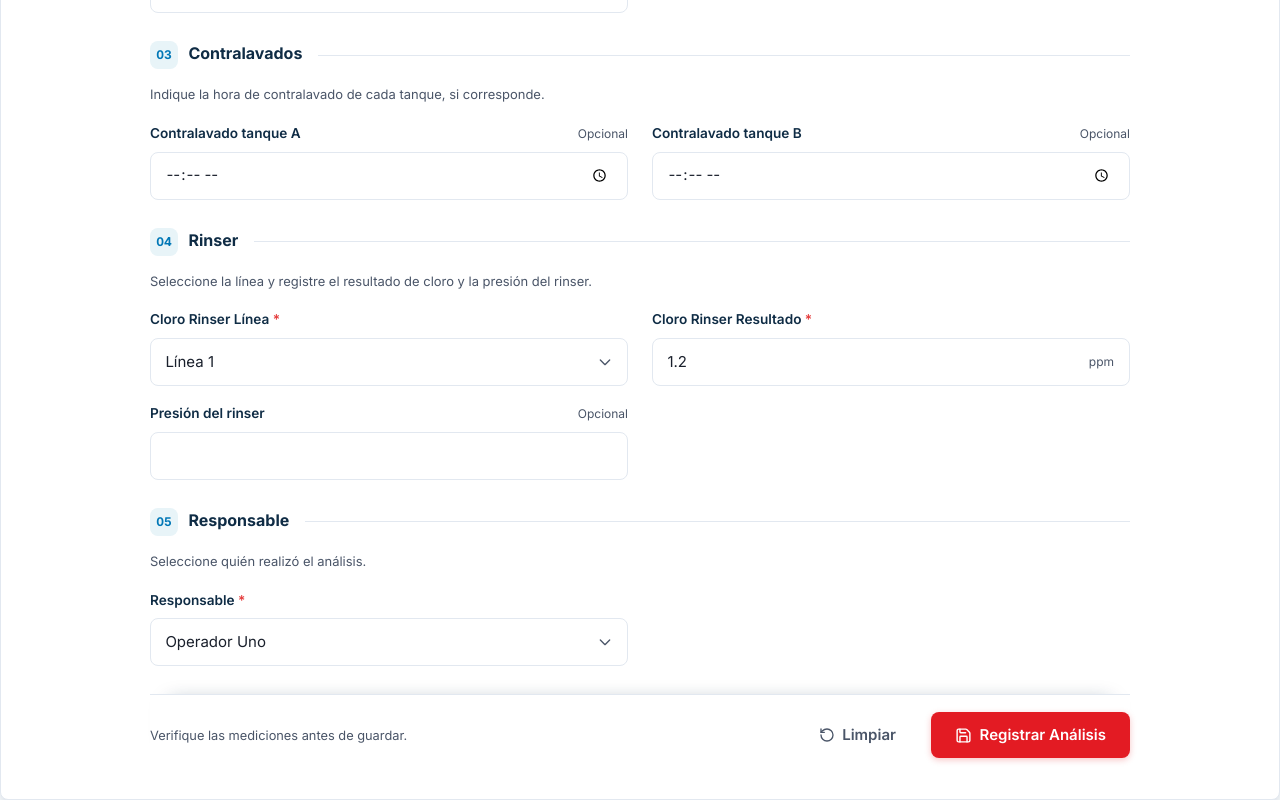
Test case: ingreso de datos en formularios › registra la presión del rinser y muestra los títulos corregidos en análisis de cloro
Earlier steps of the test are not shown.
Later steps or results of the test are not shown.
(page scrolled)
Type "1.25" into the number field labelled "Presión del rinser Opcional" at {"x": 389, "y": 456}, box [150,432,628,480]
(page scrolled)
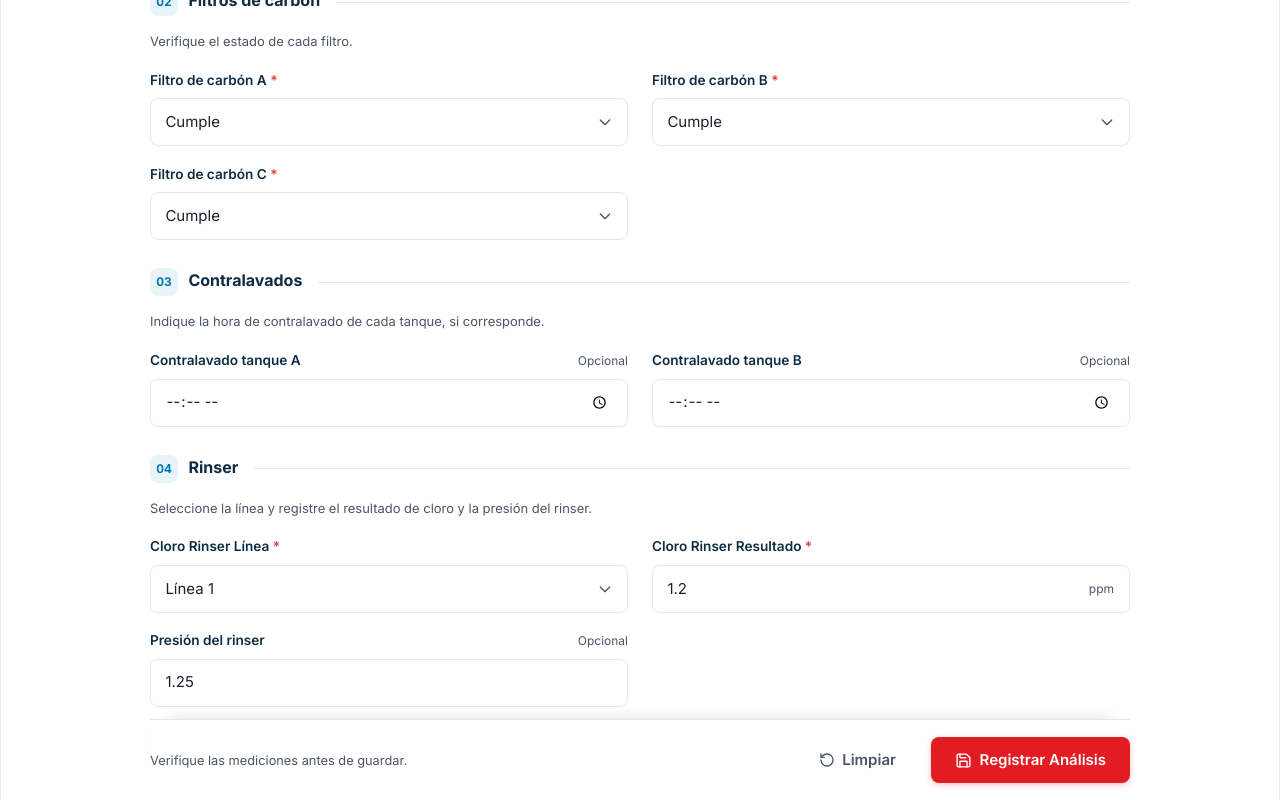
Submit the form named "Presión del rinser"
(page scrolled)
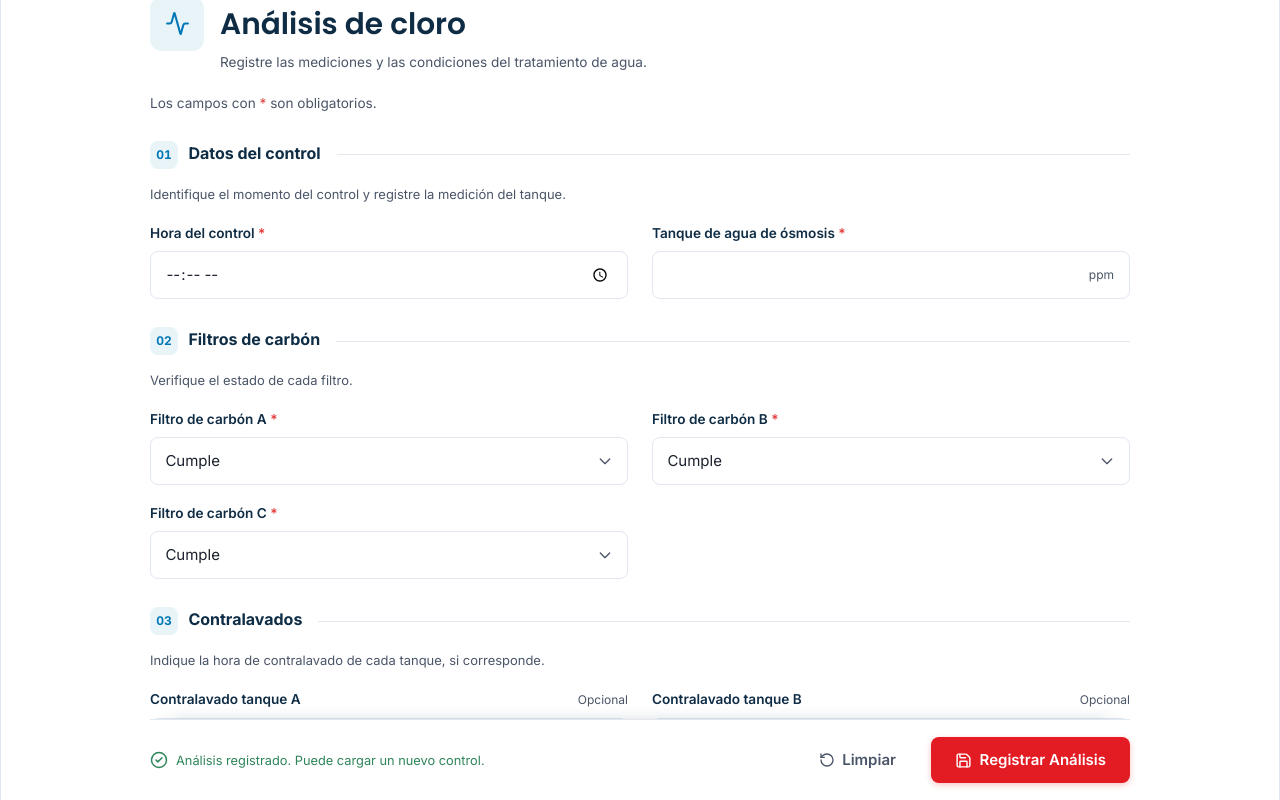
Type "09:00" into the time field labelled "Hora del control *" at {"x": 389, "y": 275}, box [150,251,628,299]
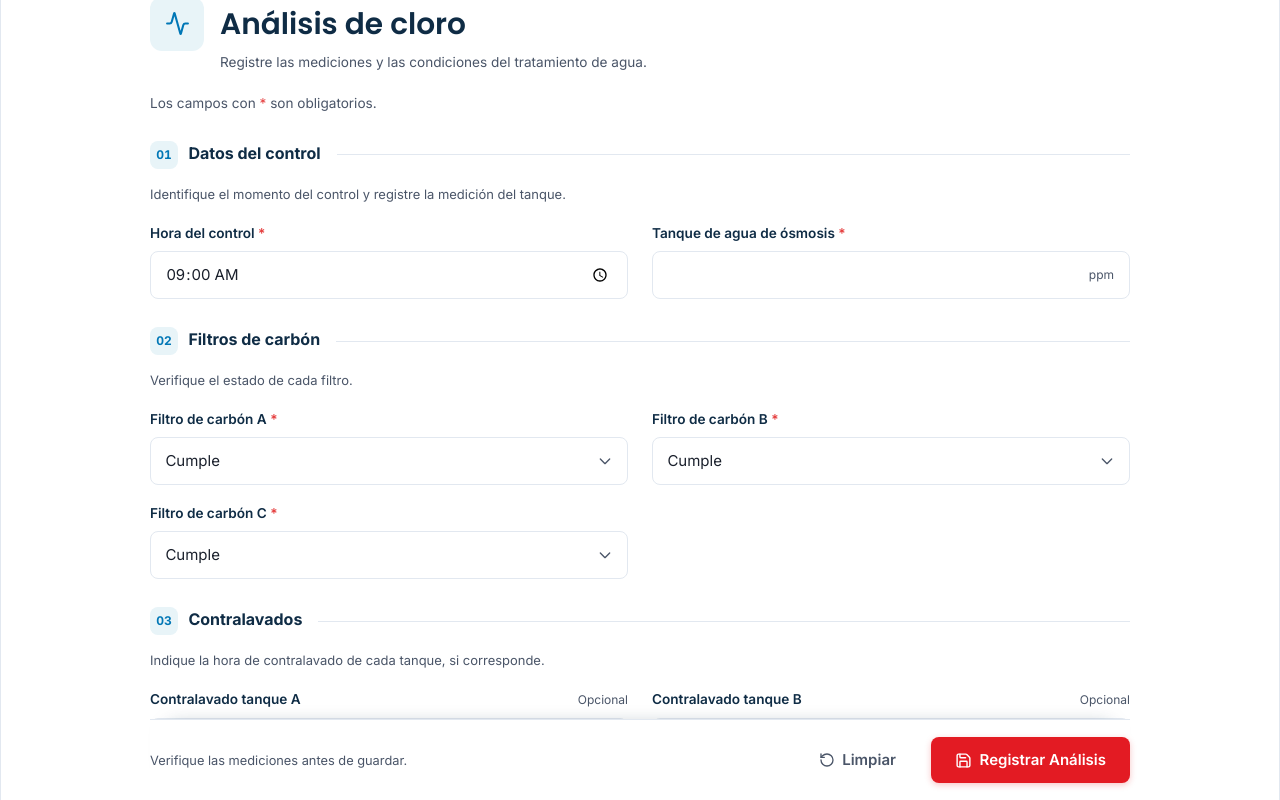
Type "0.5" into the number field labelled "Tanque de agua de ósmosis *" at {"x": 891, "y": 275}, box [652,251,1130,299]
(page scrolled)
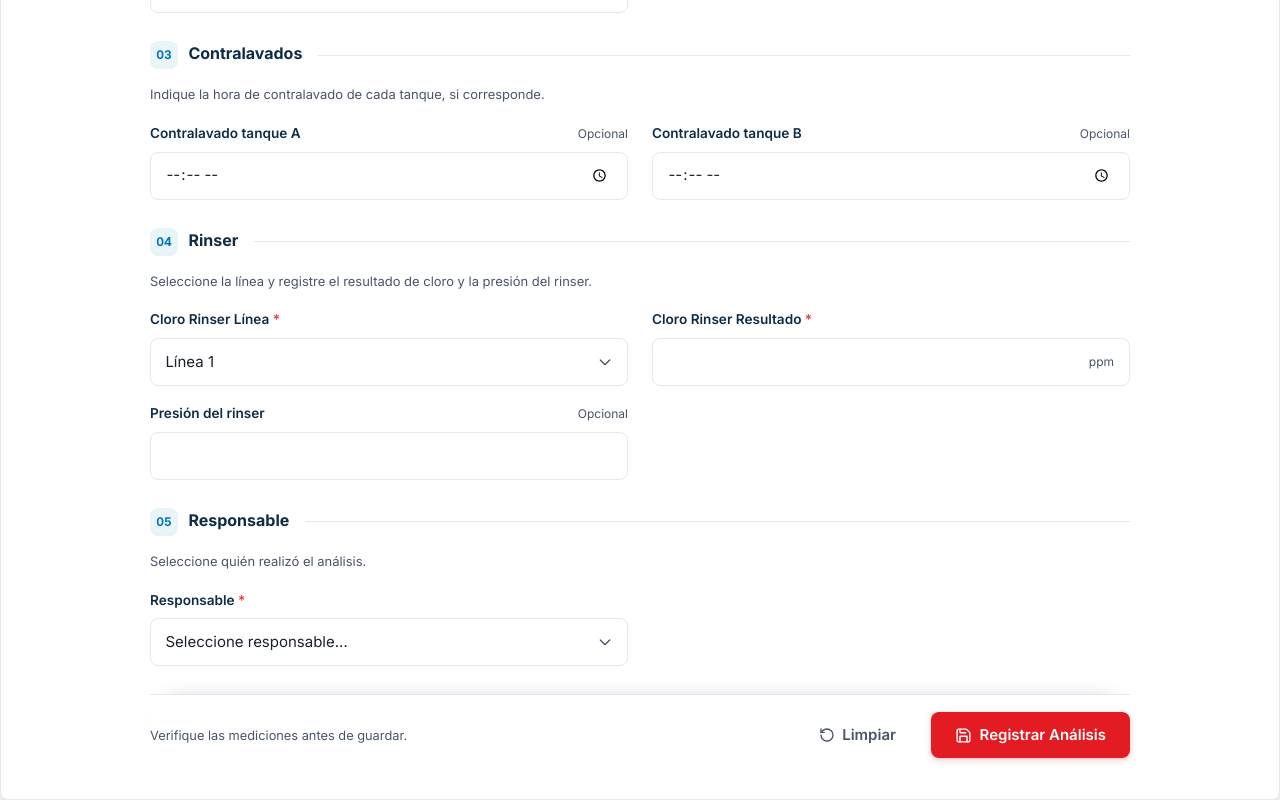
Type "1.2" into the number field labelled "Cloro Rinser Resultado *" at {"x": 891, "y": 362}, box [652,338,1130,386]
Select "Operador Uno" in the dropdown labelled "Responsable *" at {"x": 389, "y": 642}, box [150,618,628,666]
Type "0" into the number field labelled "Presión del rinser Opcional" at {"x": 389, "y": 456}, box [150,432,628,480]
(page scrolled)
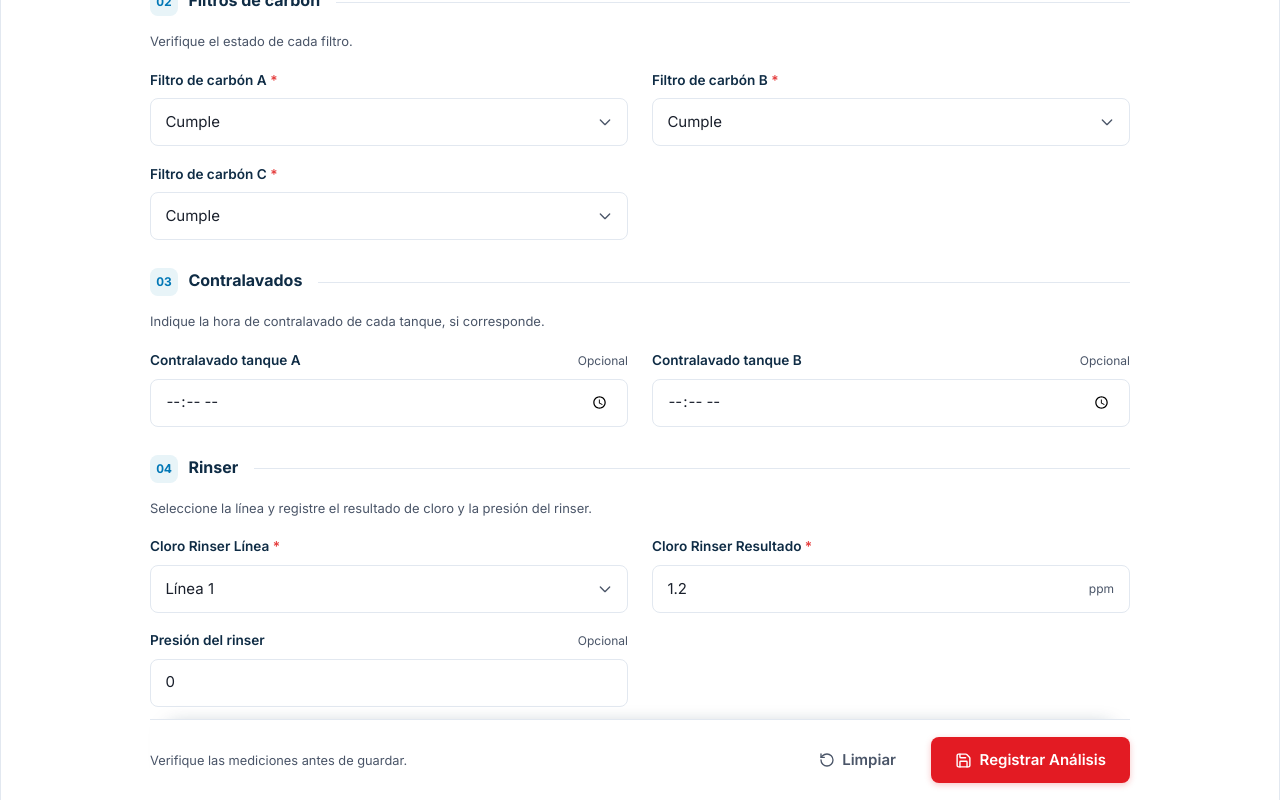
Submit the form named "Presión del rinser"
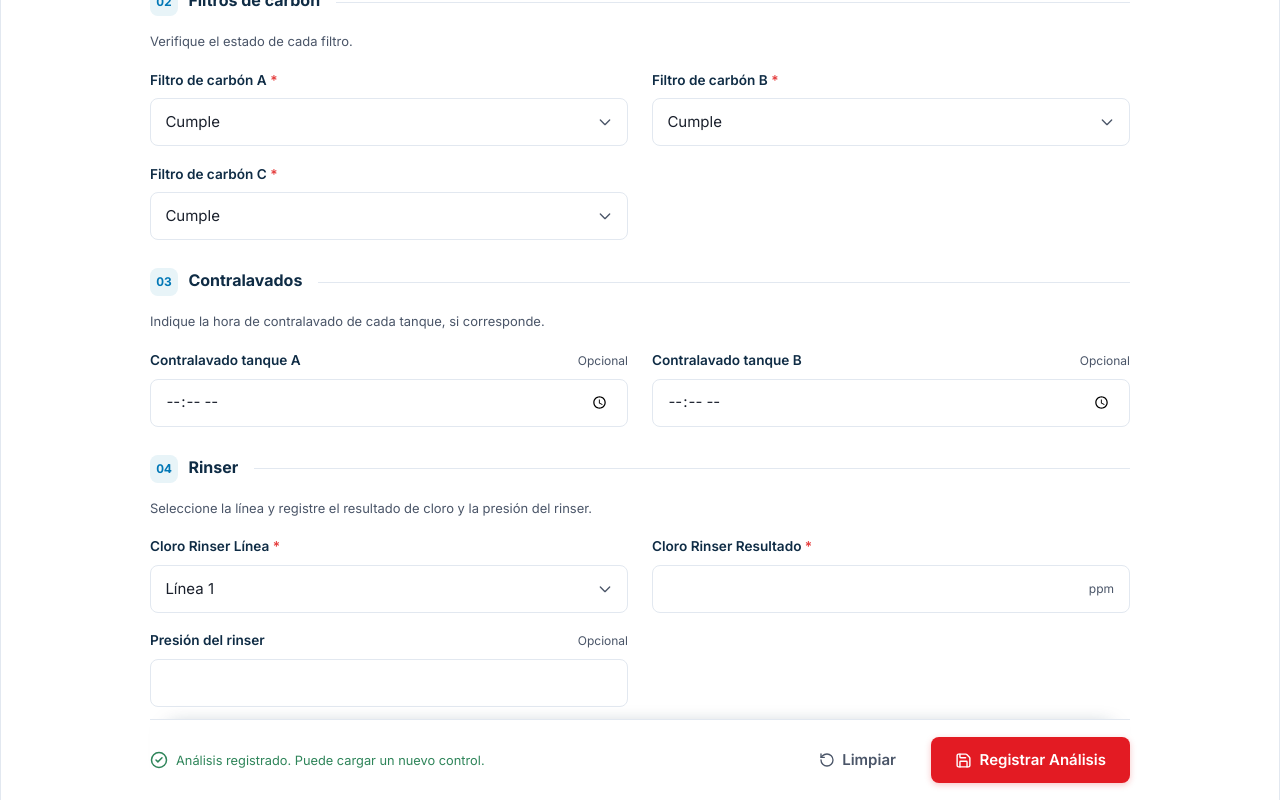
Check: the number field labelled "Presión del rinser Opcional" is not empty, box [150,659,628,707]
